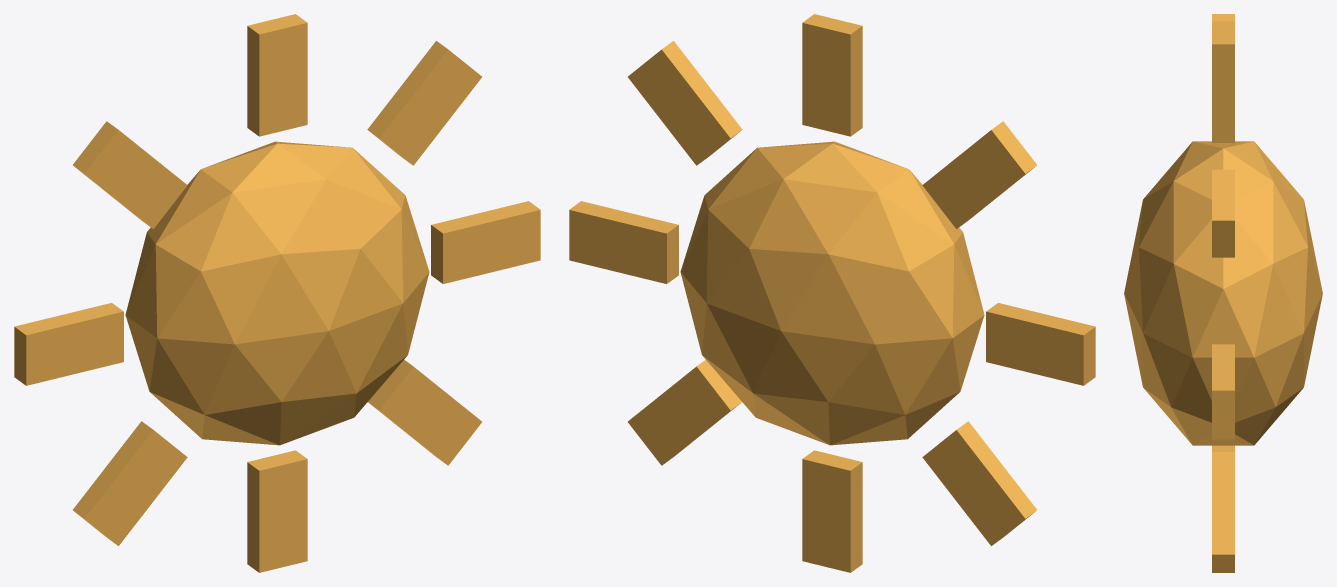
Rendered from SM_Icon_Weather_Sun_01.fbx.
3 views of the same model, side by side, from view 1: azimuth 30°, elevation 25°; view 2: azimuth 150°, elevation 25°; view 3: azimuth 270°, elevation 25° (orthographic). The views are drawn at different scales.
Visible parts, largest first — view 1: SM_Icon_Weather_Sun_01; view 2: SM_Icon_Weather_Sun_01; view 3: SM_Icon_Weather_Sun_01.
Part boxes in pixels (x1,y1,x2,y2): SM_Icon_Weather_Sun_01: [14, 14, 540, 572]; SM_Icon_Weather_Sun_01: [569, 14, 1095, 572]; SM_Icon_Weather_Sun_01: [1124, 14, 1322, 572].
Size of the model in its own units: 43.5 by 43.5 by 15.04.
